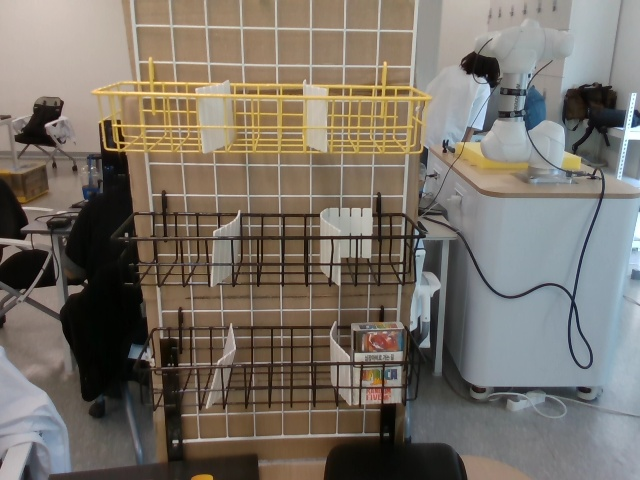africa: (349, 318, 404, 406)
